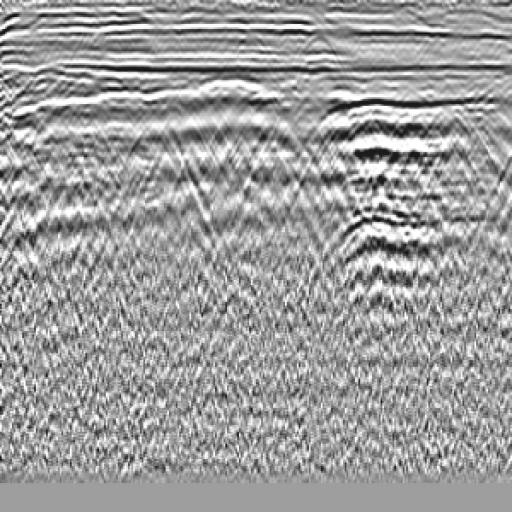non-metallic: (303, 103, 483, 361)
